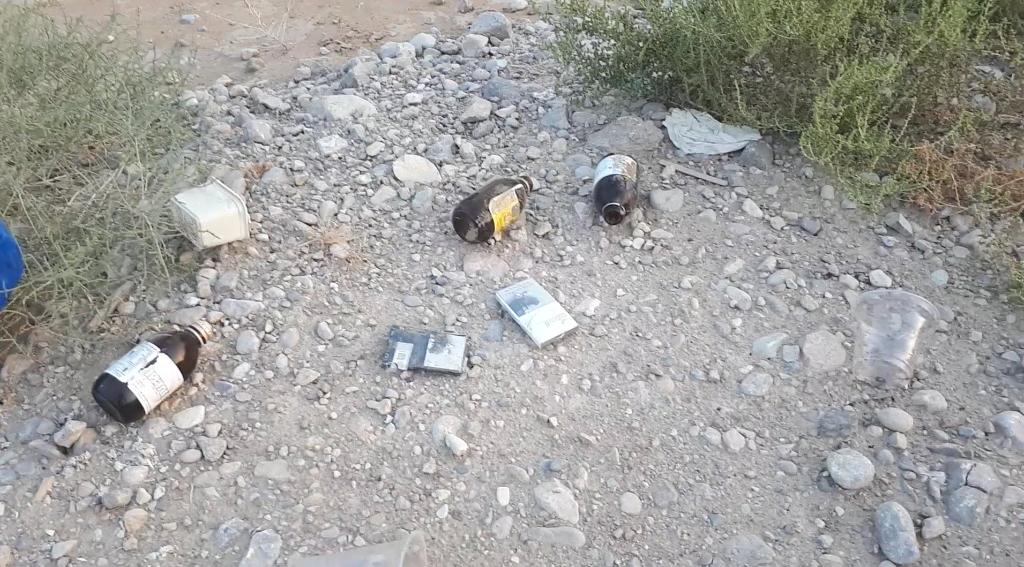garbage: (75, 315, 234, 430), (91, 320, 213, 424), (446, 169, 549, 247), (571, 149, 652, 231), (452, 176, 533, 243), (593, 152, 639, 225)
